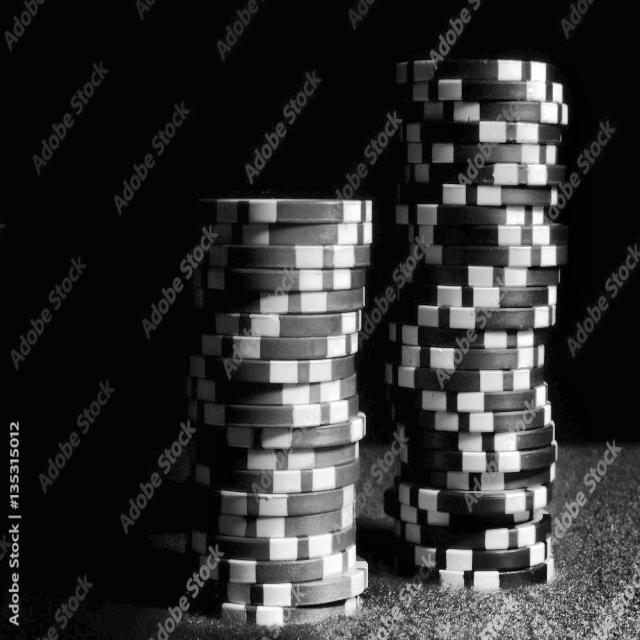Chip: (384, 47, 572, 596), (197, 177, 376, 632)
